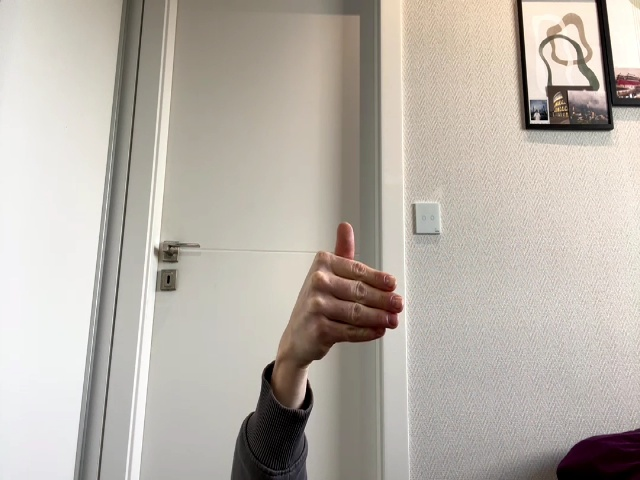M: (294, 222, 403, 373)
